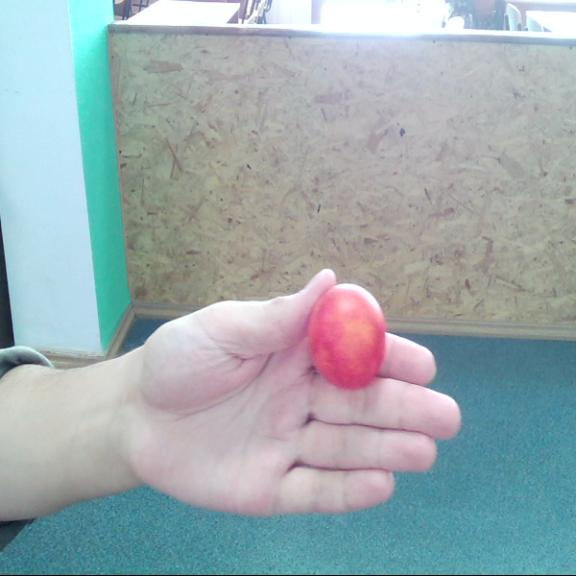ball: (309, 285, 387, 390)
